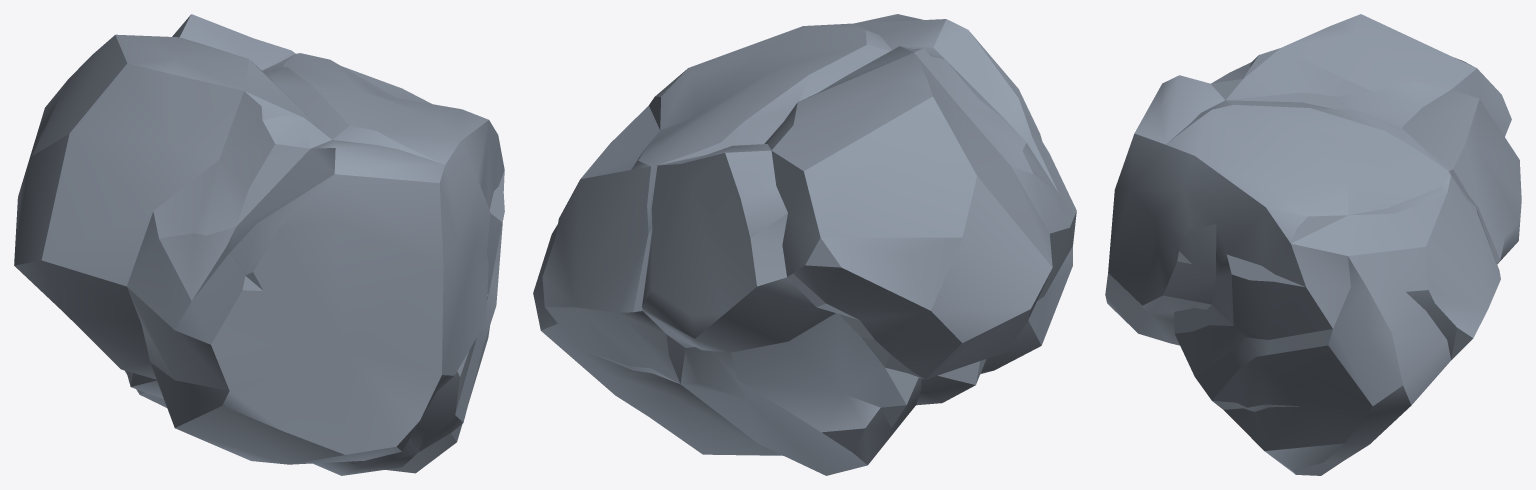
File: Rocks_big_02.fbx
3 renders of one model, left to right at view 1: azimuth 30°, elevation 25°; view 2: azimuth 150°, elevation 25°; view 3: azimuth 270°, elevation 25°, orthographic. The views are drawn at different scales.
Parts seen in each view (by area): view 1: Rocks_big_02; view 2: Rocks_big_02; view 3: Rocks_big_02.
Part boxes in pixels (x1,y1,x2,y2): Rocks_big_02: (14,14,504,475); Rocks_big_02: (533,14,1076,475); Rocks_big_02: (1105,14,1521,475).
Size of the model in its own units: 340 by 296 by 309.
